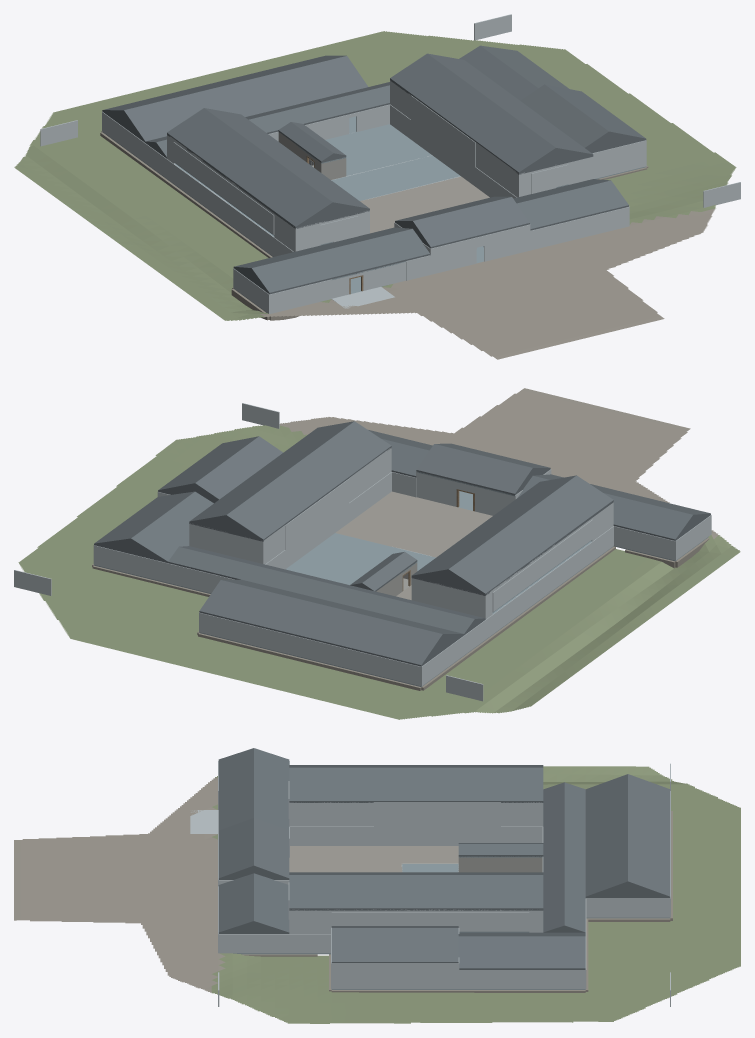
File: constructed-cells.glb
3 views of the same model, one above another, from view 1: azimuth 30°, elevation 25°; view 2: azimuth 150°, elevation 25°; view 3: azimuth 270°, elevation 25° (orthographic).
Parts seen in each view (by area): view 1: Saved editor geographic earthworks PRISON, food-and-medical roof south, east-cellhouse roof west, west-cellhouse roof west, intake-and-visitors roof south, PRISON secure exercise yard pavement region0, sally-port roof south, guard-and-staff roof south, Ceiling cap plant, Ceiling cap laundry, east-cellhouse roof east, west-cellhouse roof east (+33 smaller); view 2: Saved editor geographic earthworks PRISON, food-and-medical roof north, west-cellhouse roof west, east-cellhouse roof west, PRISON secure exercise yard pavement region0, north-cross roof north, sally-port roof north, east-cellhouse roof east, west-cellhouse roof east, intake-and-visitors roof north, isolation roof west, chapel roof west (+31 smaller); view 3: Saved editor geographic earthworks PRISON, west-cellhouse roof east, east-cellhouse roof east, food-and-medical roof south, food-and-medical roof north, chapel roof east, isolation roof east, PRISON secure exercise yard pavement region0, Wall chapel E, north-cross roof north, north-cross roof south, Wall a-rear-bypass E (+31 smaller).
Part boxes in pixels (x1=…): Saved editor geographic earthworks PRISON: x1=14, y1=31, x2=736, y2=359; food-and-medical roof south: x1=124, y1=56, x2=368, y2=141; east-cellhouse roof west: x1=390, y1=53, x2=555, y2=173; west-cellhouse roof west: x1=167, y1=108, x2=332, y2=227; intake-and-visitors roof south: x1=251, y1=229, x2=430, y2=293; PRISON secure exercise yard pavement region0: x1=360, y1=176, x2=489, y2=233; sally-port roof south: x1=413, y1=197, x2=529, y2=248; guard-and-staff roof south: x1=517, y1=180, x2=628, y2=230; Ceiling cap plant: x1=325, y1=124, x2=431, y2=175; Ceiling cap laundry: x1=331, y1=155, x2=460, y2=200; east-cellhouse roof east: x1=428, y1=53, x2=593, y2=155; west-cellhouse roof east: x1=204, y1=108, x2=369, y2=209; Saved editor geographic earthworks PRISON: x1=18, y1=388, x2=740, y2=719; food-and-medical roof north: x1=199, y1=580, x2=442, y2=666; west-cellhouse roof west: x1=448, y1=475, x2=613, y2=594; east-cellhouse roof west: x1=226, y1=421, x2=391, y2=540; PRISON secure exercise yard pavement region0: x1=335, y1=491, x2=492, y2=599; north-cross roof north: x1=168, y1=547, x2=474, y2=634; sally-port roof north: x1=416, y1=444, x2=532, y2=494; east-cellhouse roof east: x1=189, y1=421, x2=353, y2=522; west-cellhouse roof east: x1=411, y1=475, x2=576, y2=576; intake-and-visitors roof north: x1=517, y1=476, x2=693, y2=540; isolation roof west: x1=131, y1=491, x2=213, y2=562; chapel roof west: x1=195, y1=436, x2=283, y2=500; Saved editor geographic earthworks PRISON: x1=14, y1=766, x2=740, y2=1023; west-cellhouse roof east: x1=289, y1=767, x2=543, y2=802; east-cellhouse roof east: x1=289, y1=875, x2=543, y2=909; food-and-medical roof south: x1=585, y1=774, x2=627, y2=897; food-and-medical roof north: x1=628, y1=774, x2=670, y2=897; chapel roof east: x1=331, y1=928, x2=458, y2=963; isolation roof east: x1=458, y1=936, x2=585, y2=969; PRISON secure exercise yard pavement region0: x1=289, y1=846, x2=458, y2=872; Wall chapel E: x1=331, y1=963, x2=458, y2=989; north-cross roof north: x1=564, y1=782, x2=585, y2=932; north-cross roof south: x1=543, y1=782, x2=564, y2=932; Wall a-rear-bypass E: x1=430, y1=802, x2=500, y2=845.
Bounding box in the file's own units: 87 × 12.74 × 103.
Materials: 29 (14 with a texture image).
